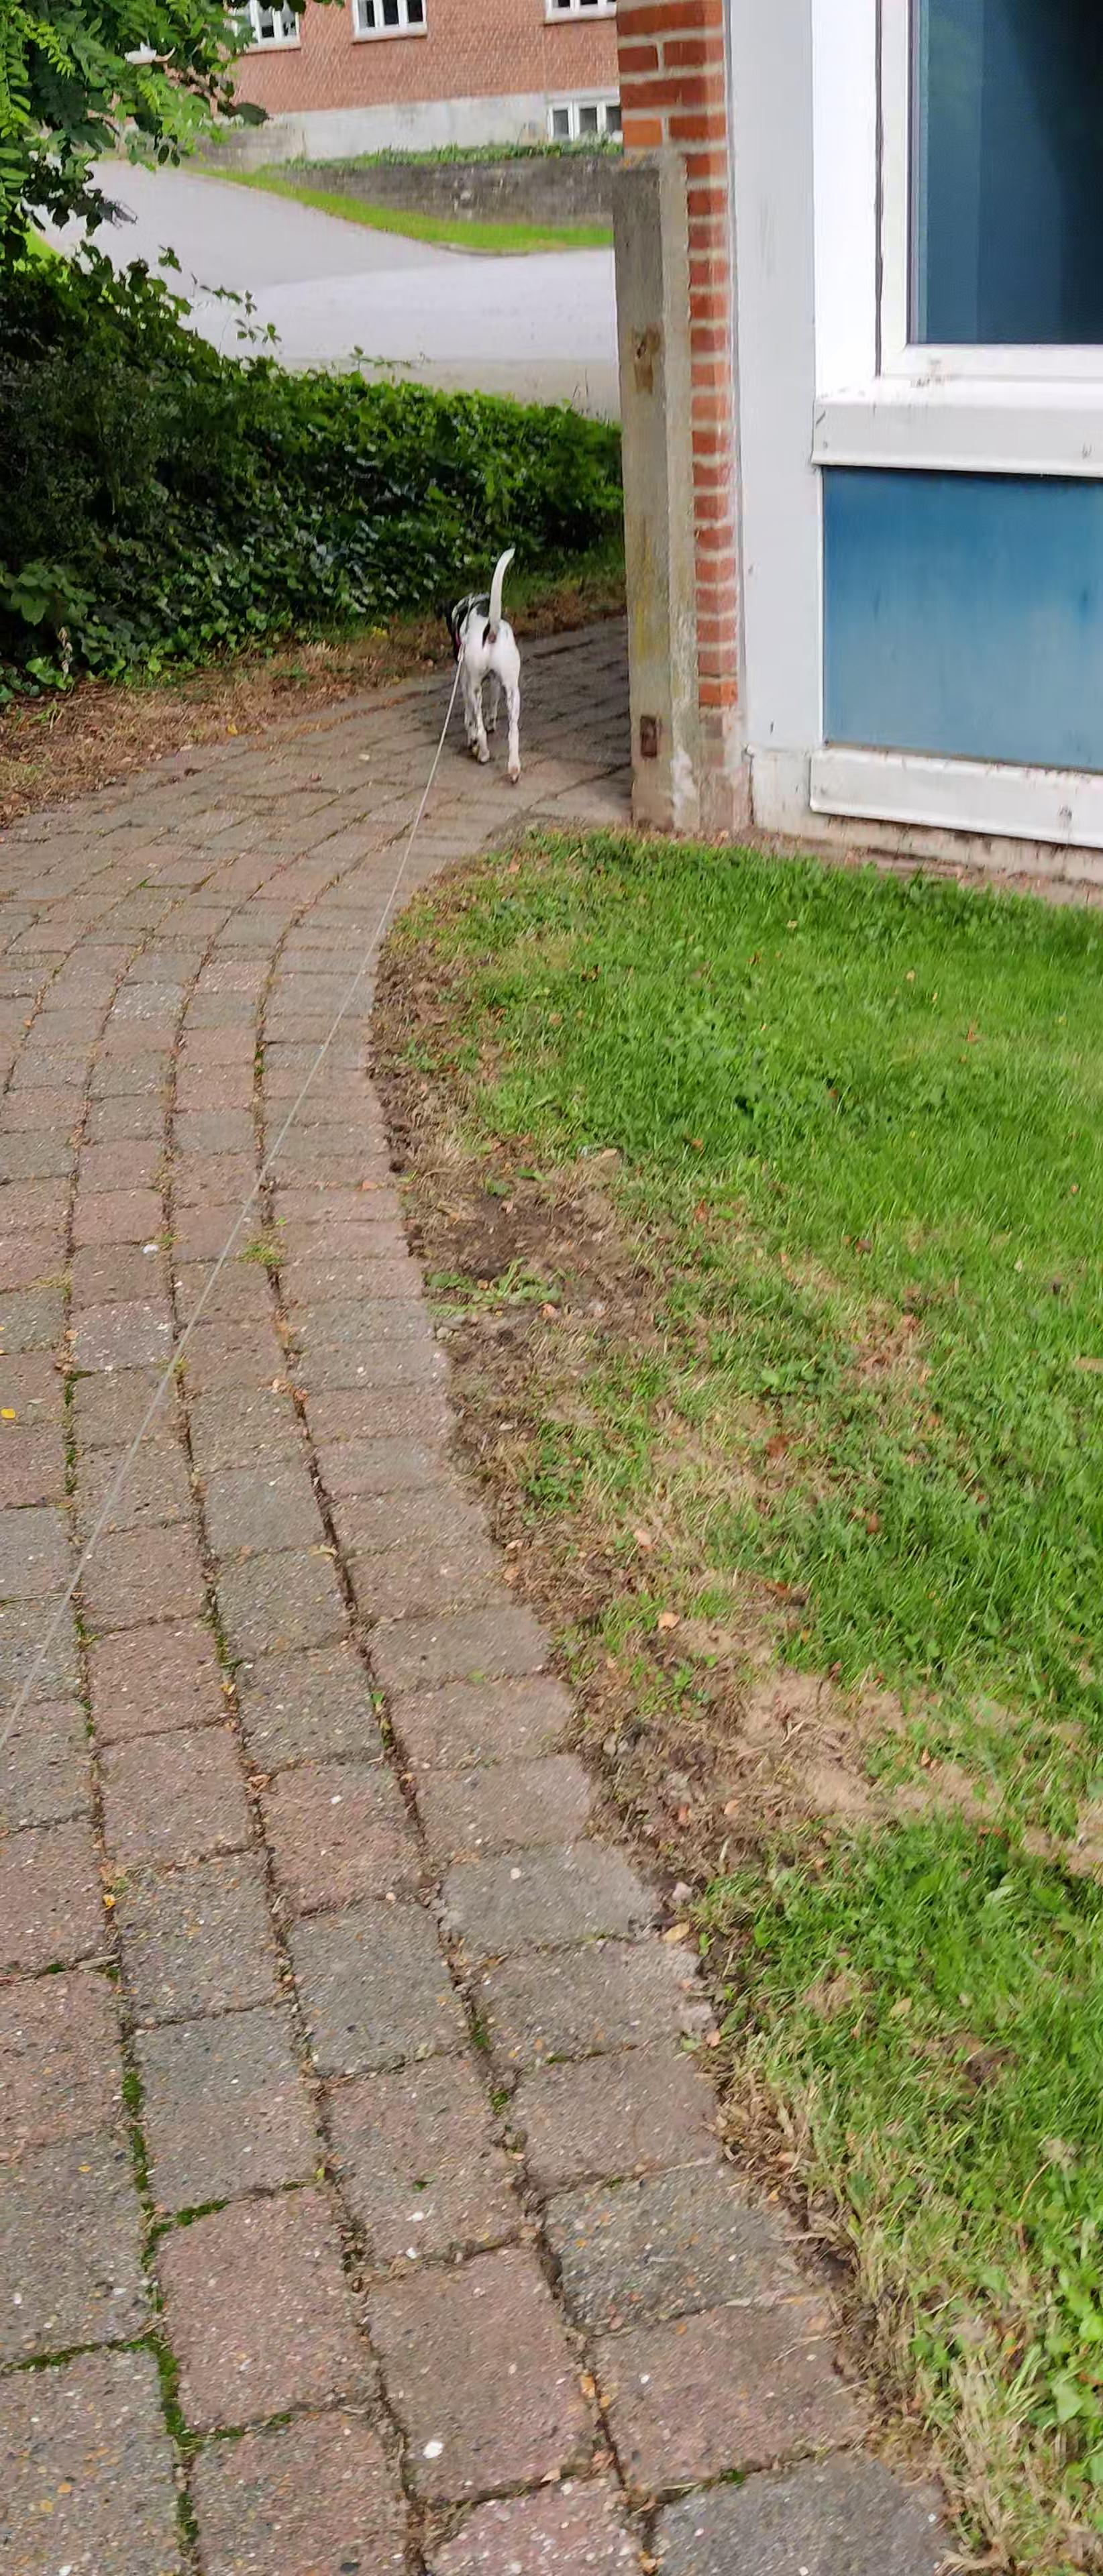Dog: (431, 537, 541, 795)
